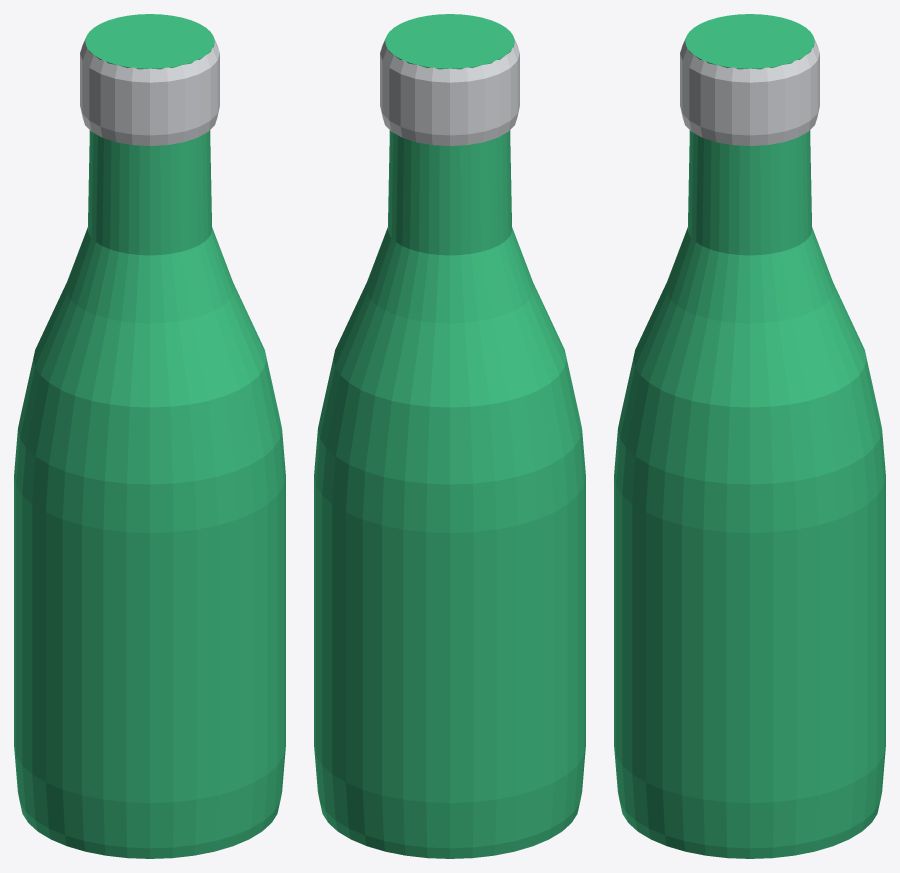
Rendered from Soda Bottle.fbx.
3 renders of one model, left to right at view 1: azimuth 30°, elevation 25°; view 2: azimuth 150°, elevation 25°; view 3: azimuth 270°, elevation 25°, orthographic.
Visible parts, largest first — view 1: Bottle, Cap; view 2: Bottle, Cap; view 3: Bottle, Cap.
Boxes of the visible parts, bbox=[...] form: Bottle: bbox=[14, 14, 285, 858]; Cap: bbox=[80, 38, 219, 145]; Bottle: bbox=[314, 14, 585, 858]; Cap: bbox=[380, 38, 519, 145]; Bottle: bbox=[614, 14, 885, 858]; Cap: bbox=[680, 38, 819, 145].
Size of the model in its own units: 21 by 65 by 21.
